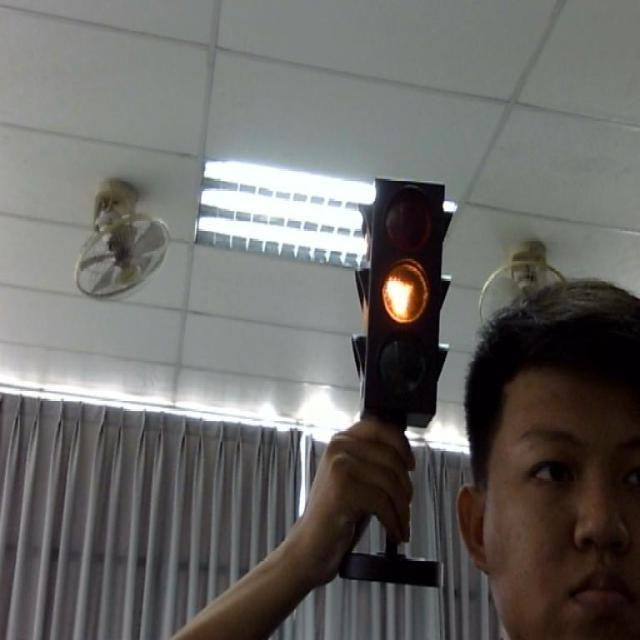yellow_light: (350, 177, 452, 426)
